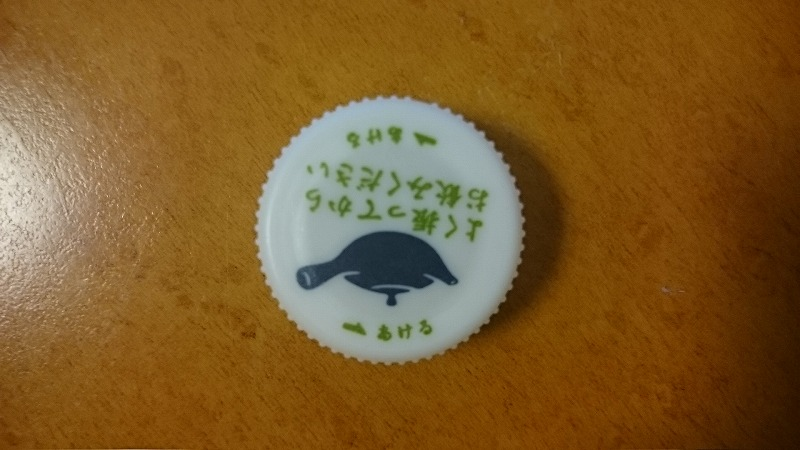A: (248, 87, 536, 373)
